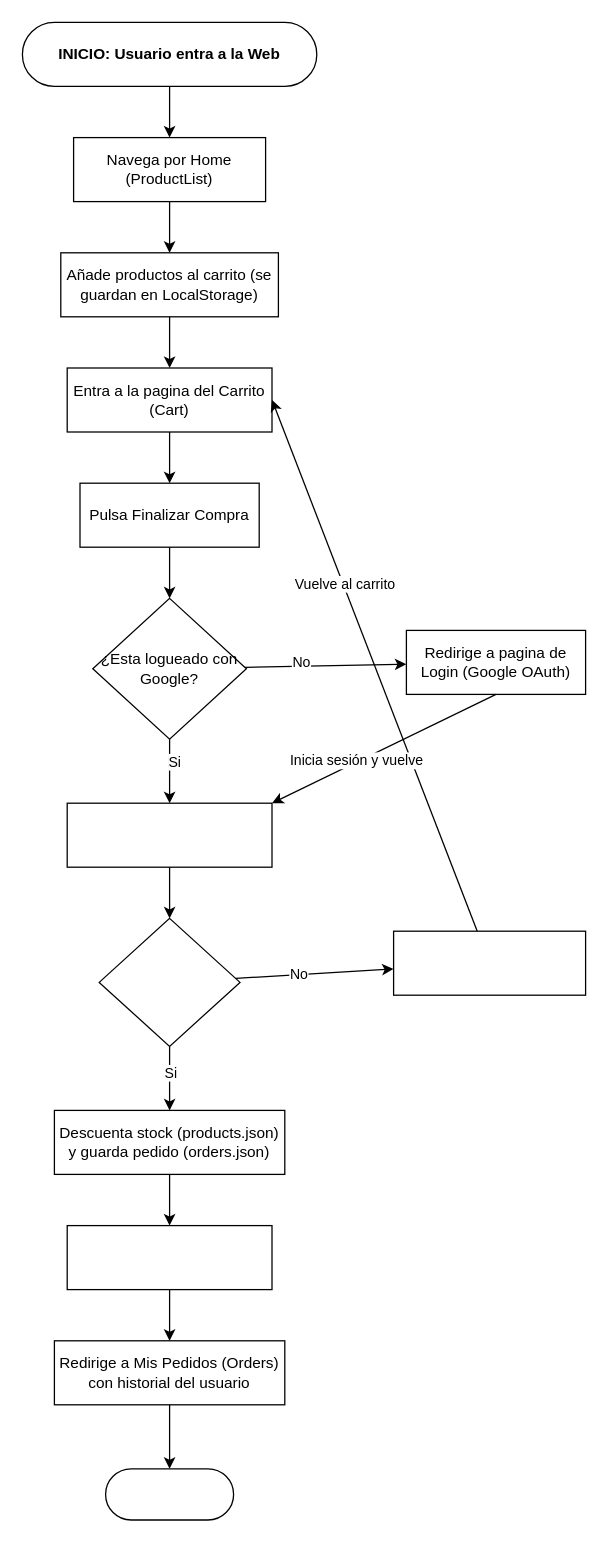
Some shapes in this 608 by 1542 pixel diagram are drawn without their labels. The shapes that lost their labels are listed below. From the top down, each one's centre as x and y in pixels, then its label:
At pixel 169 834: "Se envia el pedido al servidor (checkout_api.php)".
At pixel 169 981: "¿Hay stock suficiente?".
At pixel 489 962: "Error: Stock insuficiente. Vuelve al carrito".
At pixel 169 1257: "Se vacia el carrito (limpia LocalStorage)".
At pixel 169 1494: "FIN".
